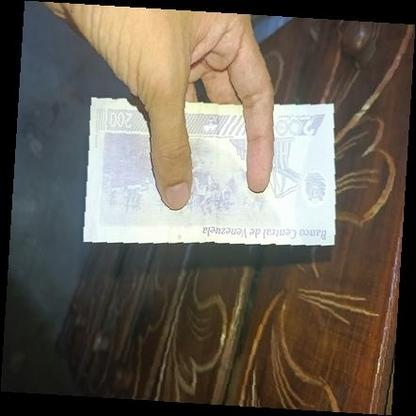two_hundred-back-vef: (82, 97, 336, 245)
